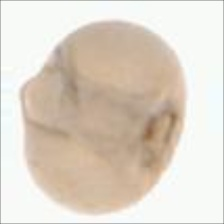L5: (20, 60, 90, 140), (137, 100, 191, 185)
L6: (16, 17, 189, 212)
